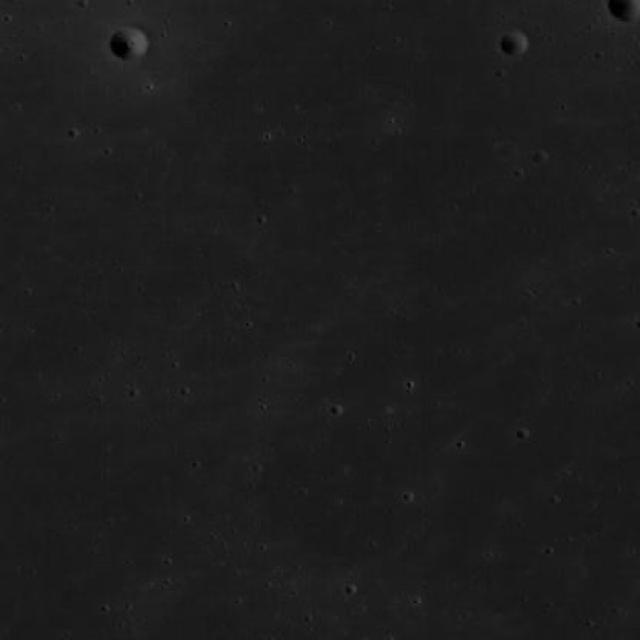crater: (109, 27, 149, 61), (500, 33, 529, 58), (496, 142, 518, 162)
